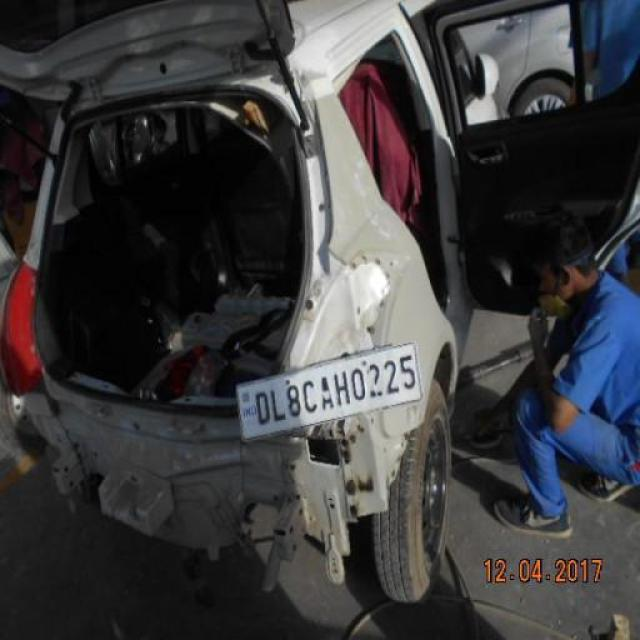missing: (7, 256, 427, 588)
